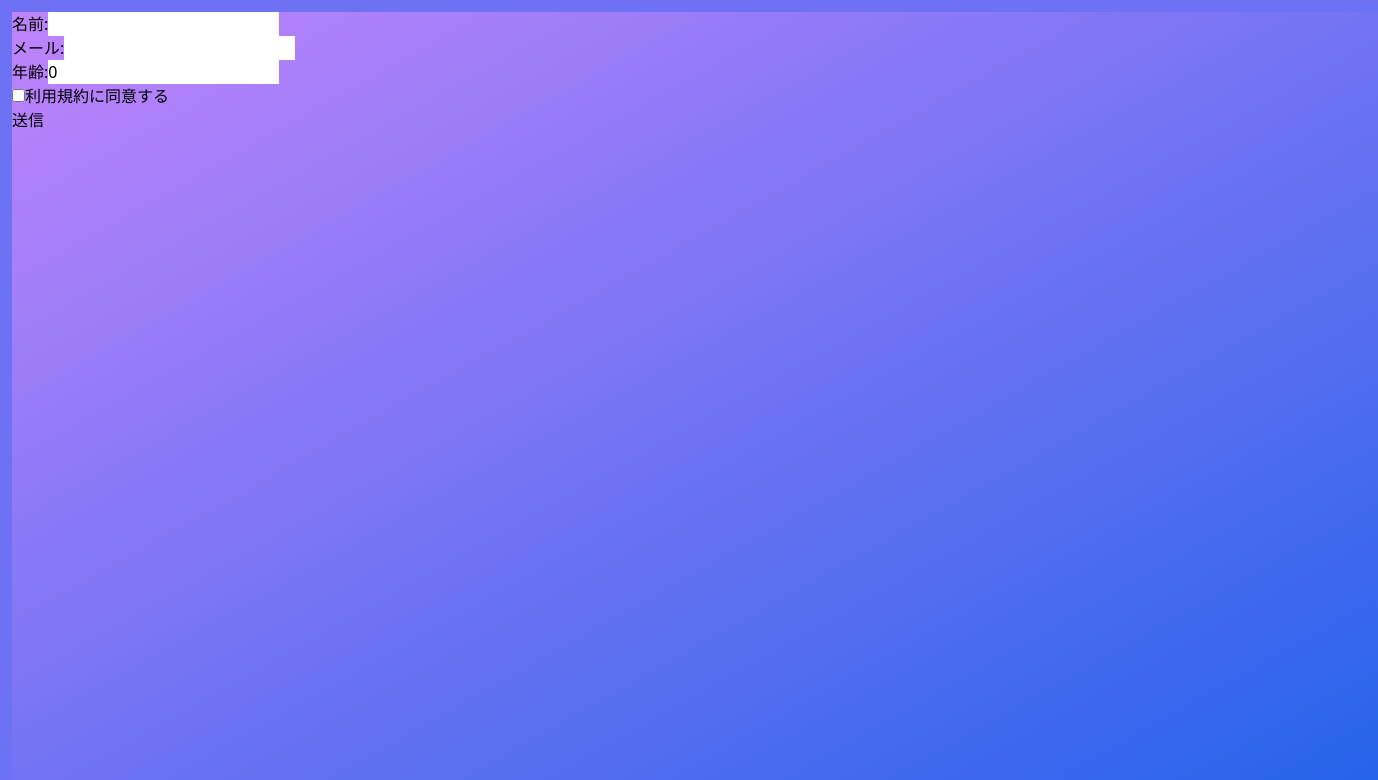
Test: FormComponent › 利用規約に同意しないとバリデーションエラーが表示される
The width and height of the screenshot is (1378, 780).
Note: 有効な値を入力（利用規約以外）
Type "田中太郎" into the field with test id "name-input" at (164, 24), box [48,12,279,36]
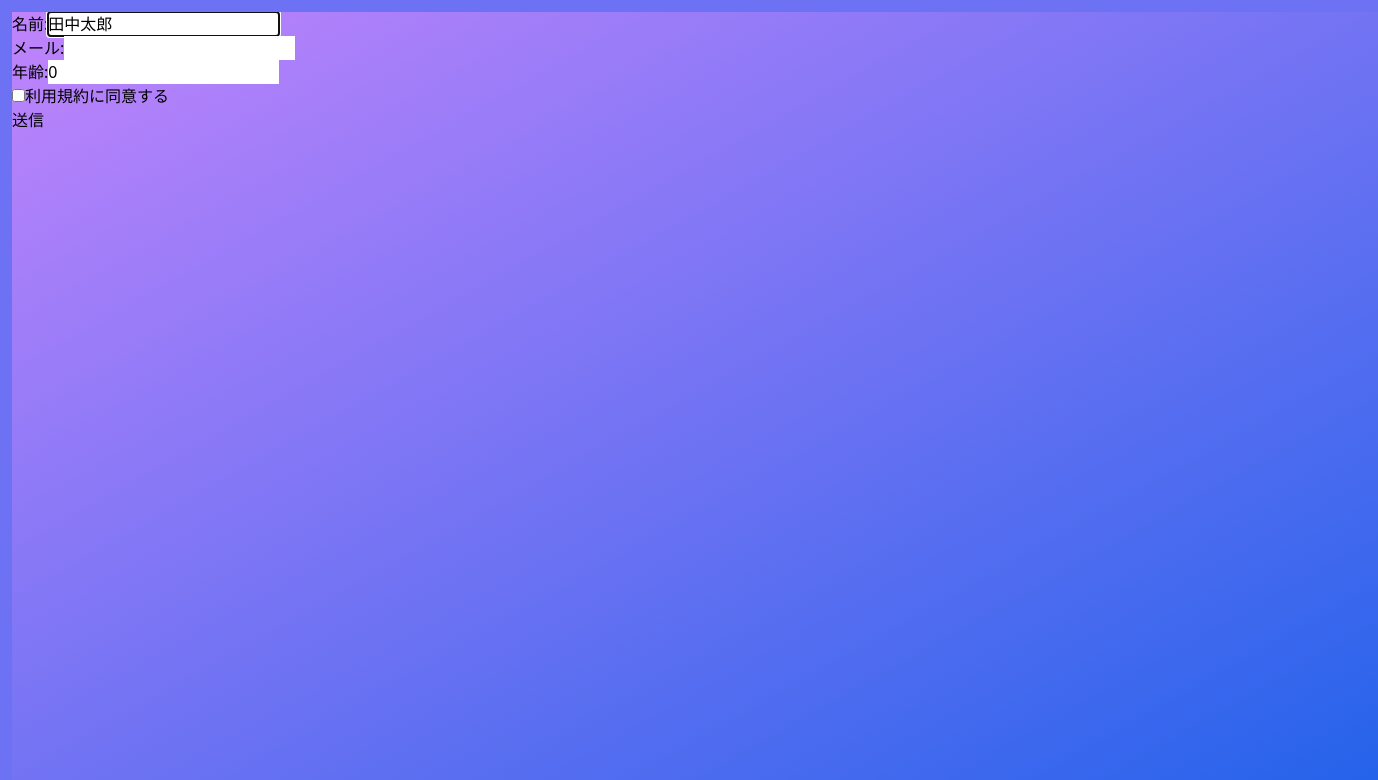
Type "tanaka@example.com" into the field with test id "email-input" at (180, 48), box [64,36,295,60]
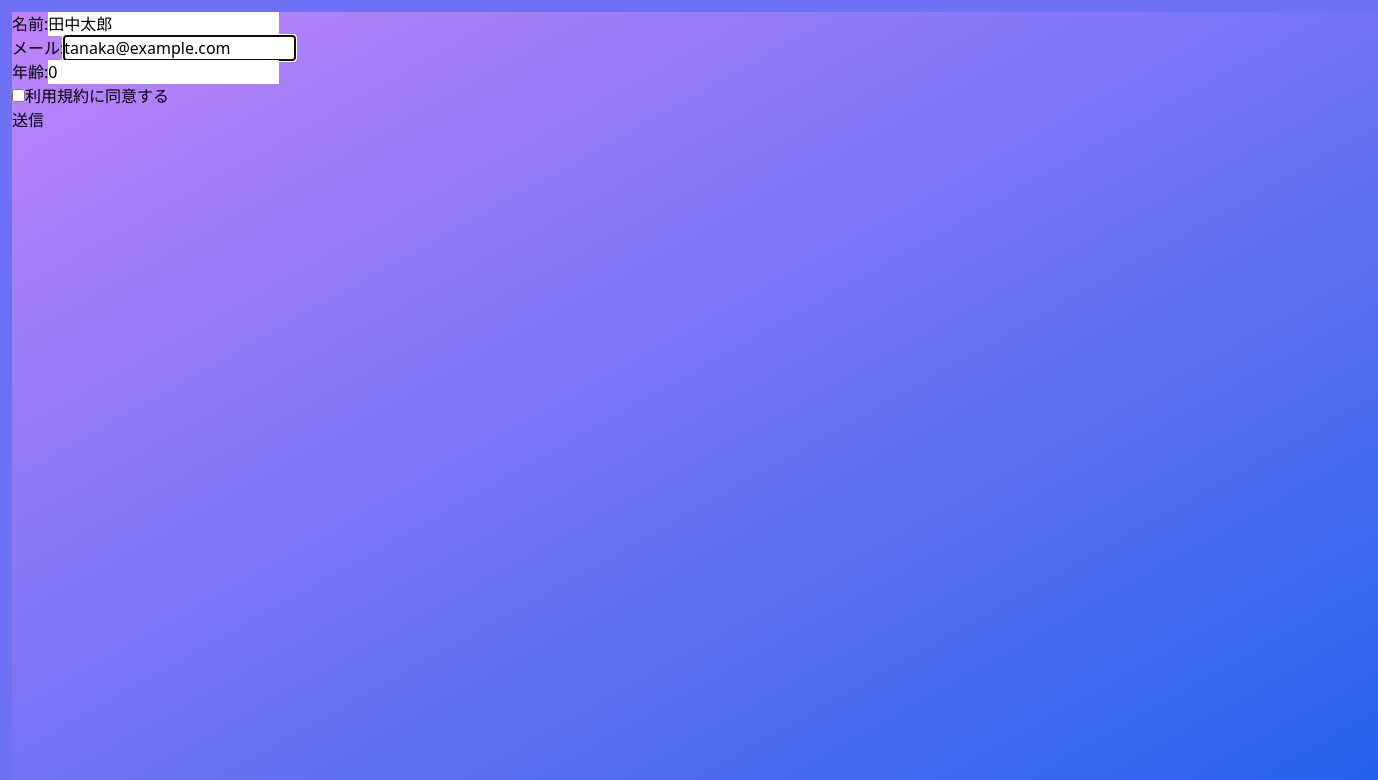
Type "25" into the number field with test id "age-input" at (164, 72), box [48,60,279,84]
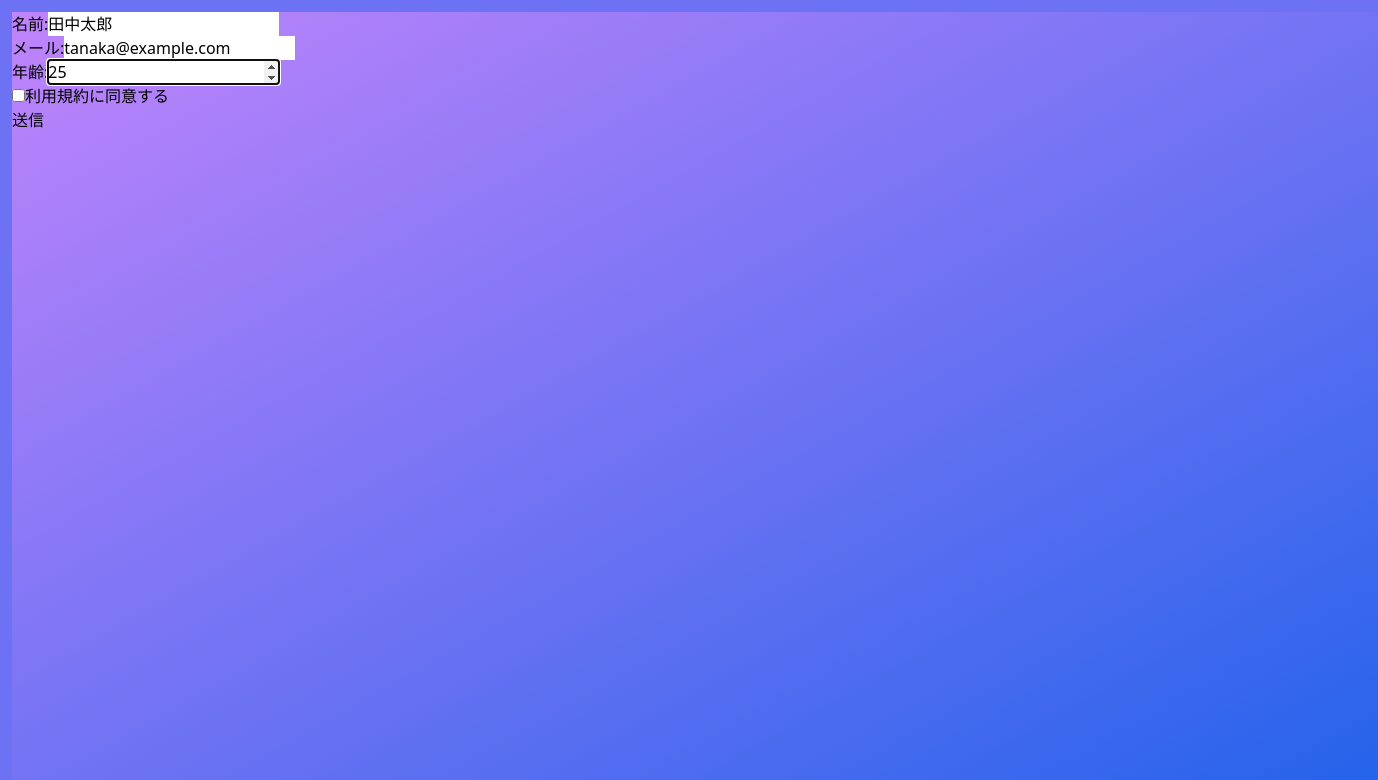
Click the button with test id "submit-button" at (28, 120), box [12,108,44,132]
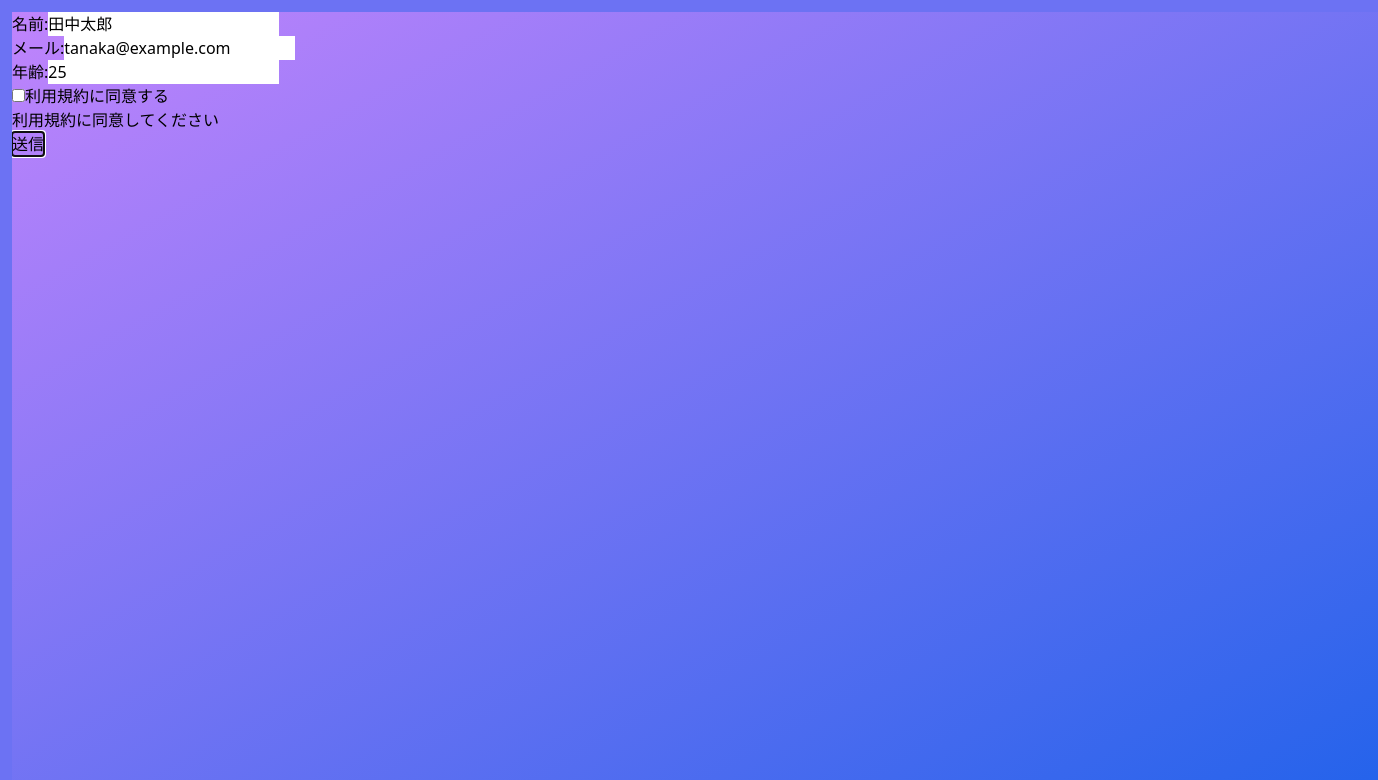
Result: the message with test id "terms-error" reads "利用規約に同意してください" at [12,109,219,131]
